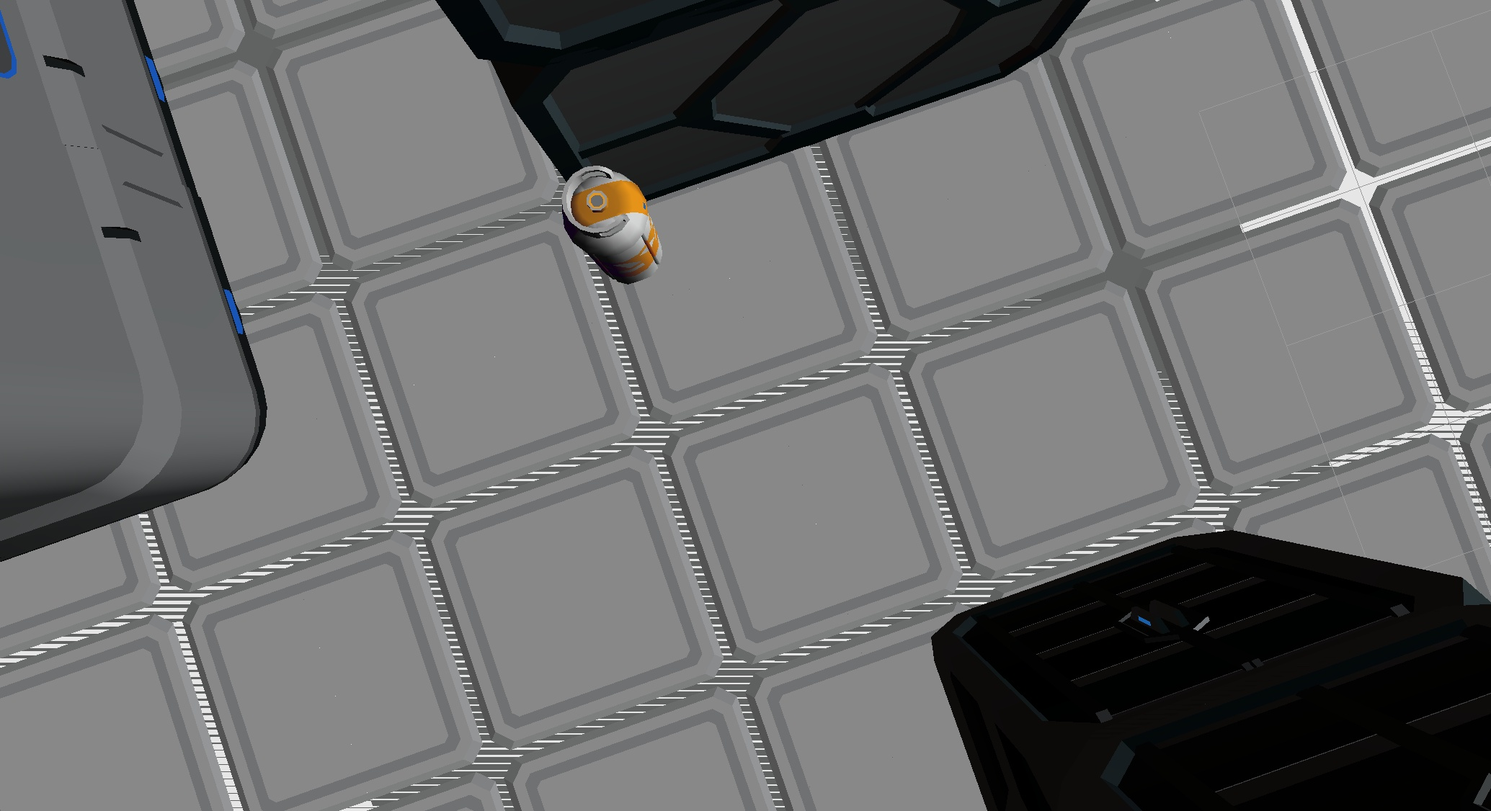yellow_barrel: (564, 166, 659, 282)
